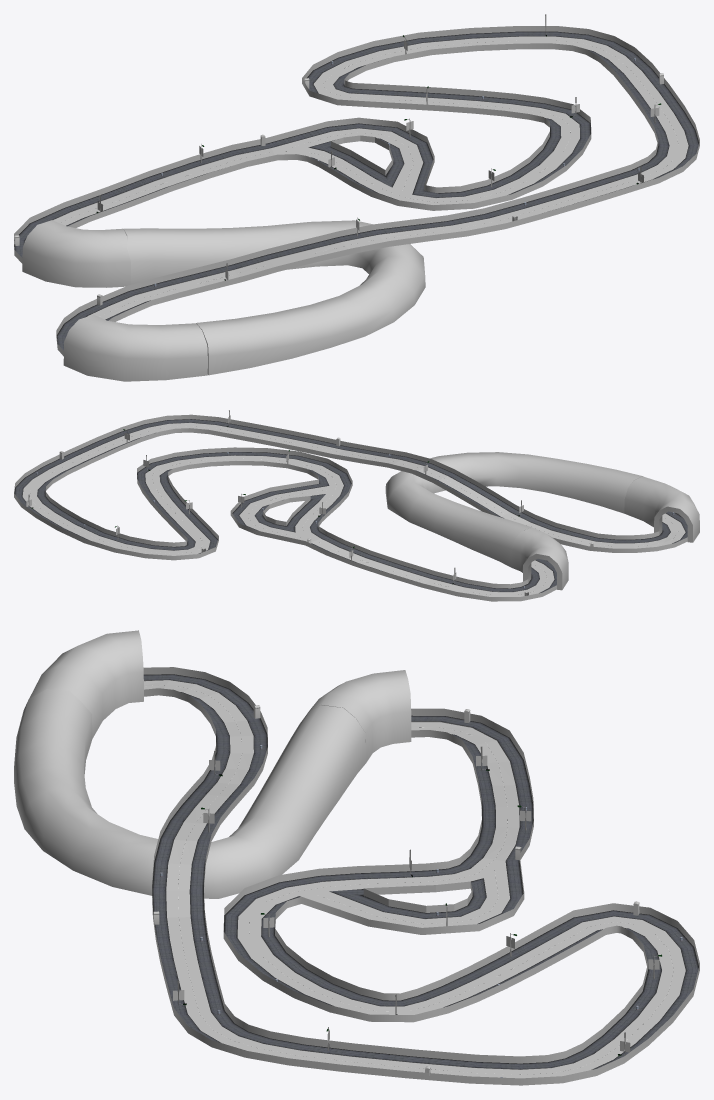
File: FBX_Map_New_York.FBX
3 renders of one model, top to bottom at view 1: azimuth 30°, elevation 25°; view 2: azimuth 150°, elevation 25°; view 3: azimuth 270°, elevation 25°, orthographic. The views are drawn at different scales.
Parts seen in each view (by area): view 1: Via_he, Ham, Duong, Duong_Ho; view 2: Via_he, Ham, Duong, Duong_Ho; view 3: Via_he, Ham, Duong, Duong_Ho.
Part boxes in pixels (bbox=[...]): Via_he: bbox=[14, 26, 699, 356]; Ham: bbox=[22, 220, 425, 381]; Duong: bbox=[53, 36, 688, 319]; Duong_Ho: bbox=[308, 135, 404, 187]; Via_he: bbox=[14, 414, 687, 601]; Ham: bbox=[385, 452, 699, 590]; Duong: bbox=[22, 423, 685, 596]; Duong_Ho: bbox=[254, 494, 325, 532]; Via_he: bbox=[143, 667, 699, 1085]; Ham: bbox=[14, 630, 411, 898]; Duong: bbox=[144, 680, 685, 1078]; Duong_Ho: bbox=[329, 878, 486, 919].
Size of the model in its own units: 114661 by 7492 by 75397.
